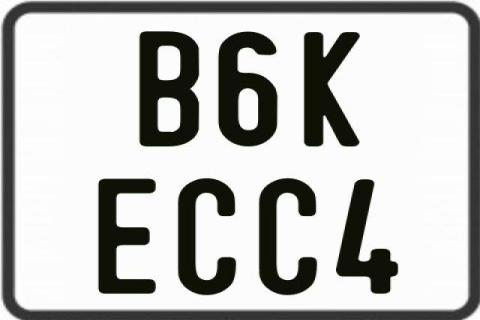0: (335, 180, 398, 298), (219, 31, 282, 146)
B: (140, 32, 202, 152)
C: (256, 176, 320, 298), (176, 179, 240, 297)
E: (98, 179, 160, 297)
K: (303, 30, 360, 146)
